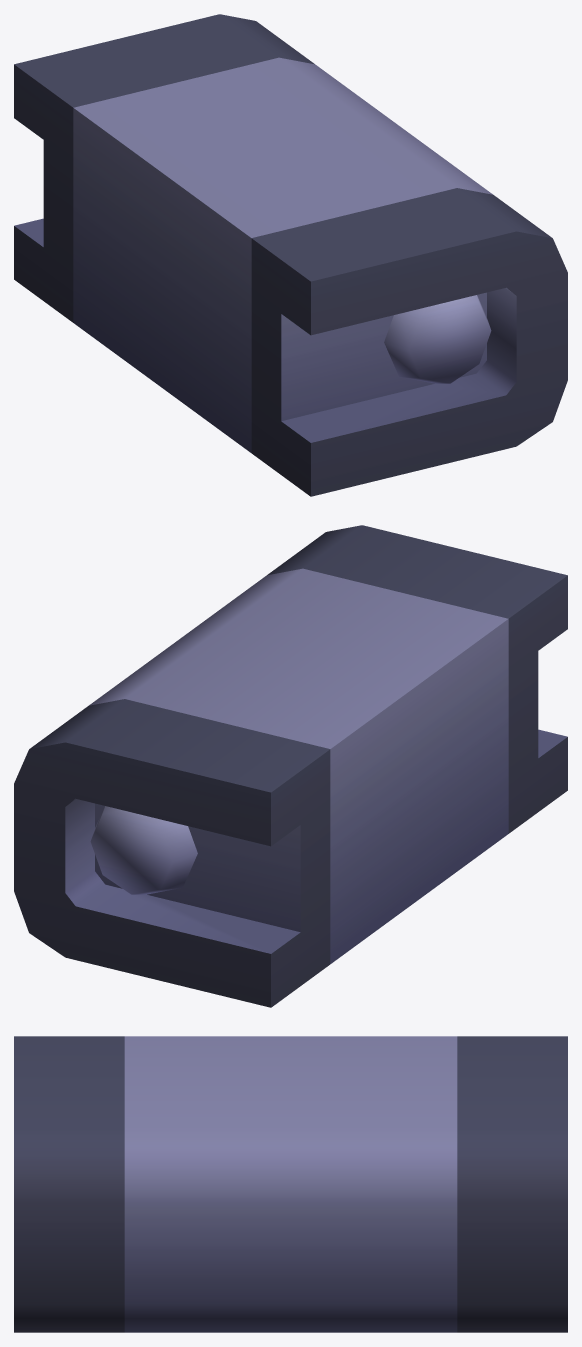
The model's file is kenney-conveyor-conveyor-stripe-part-end.glb.
3 renders of one model, top to bottom at view 1: azimuth 30°, elevation 25°; view 2: azimuth 150°, elevation 25°; view 3: azimuth 270°, elevation 25°, orthographic. The views are drawn at different scales.
Visible parts, largest first — view 1: conveyor-stripe-part-end; view 2: conveyor-stripe-part-end; view 3: conveyor-stripe-part-end.
Boxes of the visible parts, left/top/right/bottom form: conveyor-stripe-part-end: left=14, top=14, right=567, bottom=496; conveyor-stripe-part-end: left=14, top=525, right=567, bottom=1007; conveyor-stripe-part-end: left=14, top=1036, right=567, bottom=1332.
Size of the model in its own units: 0.5001 by 0.3999 by 1.
Materials: 1 (1 with a texture image).
